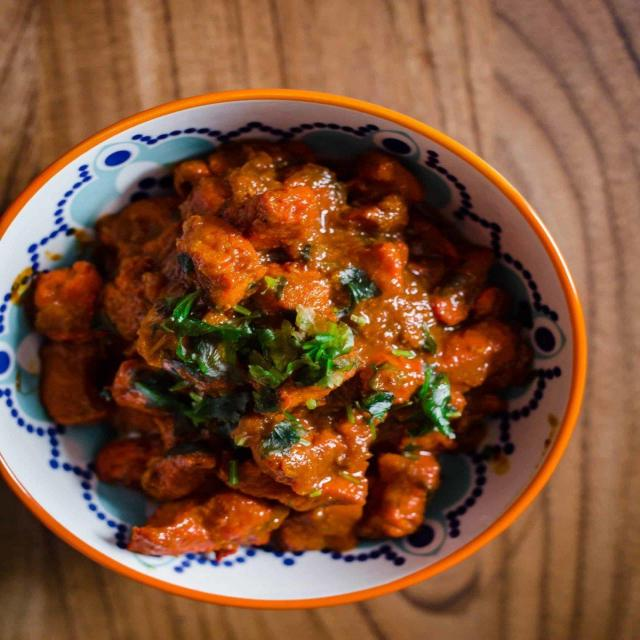chicken: (9, 122, 535, 561)
